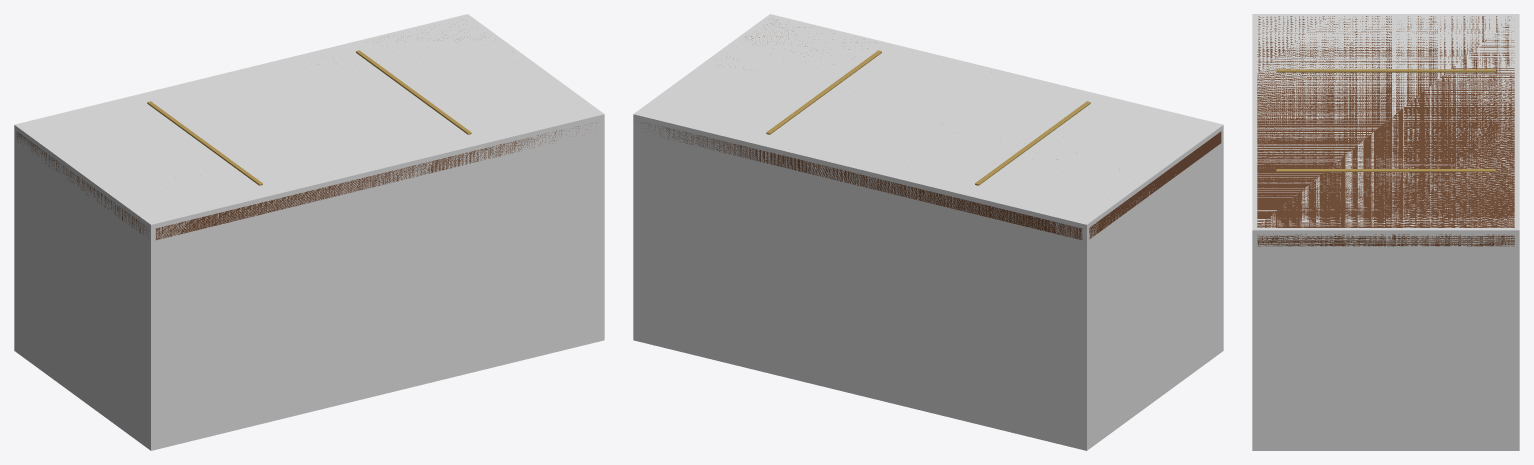
File: luxury.glb
The picture shows the model from 3 angles, left to right: view 1: azimuth 30°, elevation 25°; view 2: azimuth 150°, elevation 25°; view 3: azimuth 270°, elevation 25°; orthographic projection. The views are drawn at different scales.
Visible parts, largest first — view 1: COL_TABLES_LUXURY, Table_Top.003, Table_Inlay, Table_Inlay.001; view 2: COL_TABLES_LUXURY, Table_Top.003, Table_Inlay, Table_Inlay.001; view 3: COL_TABLES_LUXURY, Table_Top.003, Table_Inlay, Table_Inlay.001.
Part boxes in pixels (x1=…): COL_TABLES_LUXURY: x1=14, y1=14, x2=604, y2=450; Table_Top.003: x1=16, y1=35, x2=592, y2=239; Table_Inlay: x1=147, y1=101, x2=262, y2=185; Table_Inlay.001: x1=356, y1=50, x2=471, y2=134; COL_TABLES_LUXURY: x1=633, y1=14, x2=1223, y2=450; Table_Top.003: x1=641, y1=20, x2=1221, y2=239; Table_Inlay: x1=975, y1=101, x2=1090, y2=185; Table_Inlay.001: x1=766, y1=50, x2=881, y2=134; COL_TABLES_LUXURY: x1=1252, y1=14, x2=1519, y2=450; Table_Top.003: x1=1257, y1=16, x2=1514, y2=246; Table_Inlay: x1=1276, y1=69, x2=1495, y2=72; Table_Inlay.001: x1=1276, y1=169, x2=1495, y2=171.
Bounding box in the file's own units: 2.11 × 1.02 × 1.1.
